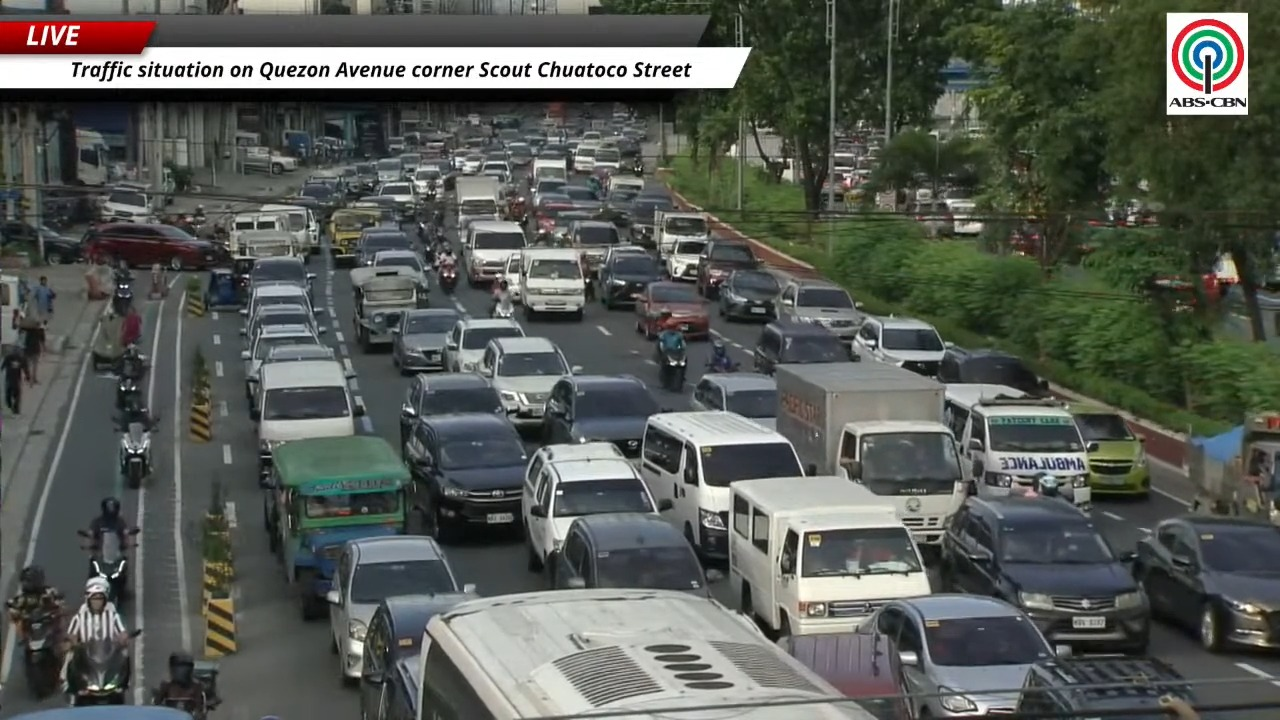bus: (418, 589, 872, 719)
car: (939, 496, 1150, 653), (857, 593, 1066, 717), (326, 535, 473, 680), (1133, 515, 1279, 651), (522, 455, 671, 583), (405, 413, 526, 541), (359, 593, 474, 719), (551, 513, 709, 596), (779, 632, 913, 719), (1014, 656, 1199, 719), (541, 375, 660, 458), (475, 337, 580, 427), (399, 373, 504, 455), (1067, 402, 1150, 496), (83, 222, 227, 271), (245, 344, 335, 411), (240, 324, 320, 396), (753, 320, 859, 374), (938, 345, 1048, 396), (853, 316, 945, 376), (775, 278, 862, 339), (690, 372, 777, 429), (392, 308, 460, 374), (445, 317, 524, 372), (635, 282, 709, 339), (695, 237, 761, 298), (525, 442, 624, 482), (597, 248, 661, 309), (0, 220, 82, 263), (717, 269, 780, 321), (241, 303, 323, 342), (239, 283, 322, 321), (249, 257, 315, 303), (629, 186, 674, 248), (371, 249, 429, 295), (568, 220, 621, 269), (99, 183, 156, 222), (356, 228, 411, 266), (663, 239, 707, 281), (263, 344, 335, 364), (377, 182, 417, 215), (298, 183, 343, 211), (601, 244, 648, 269), (559, 184, 602, 210), (533, 178, 570, 207), (412, 167, 442, 197), (506, 142, 533, 167), (459, 152, 484, 174)
motorcycle: (67, 638, 130, 706), (77, 530, 128, 606), (22, 610, 60, 699), (120, 421, 155, 488), (154, 691, 218, 719), (659, 347, 686, 392), (111, 275, 134, 316), (116, 375, 141, 409), (438, 265, 458, 294), (490, 297, 513, 318), (706, 361, 739, 373), (631, 161, 644, 176)
truck: (775, 362, 968, 545), (727, 476, 930, 635), (1187, 411, 1279, 524), (654, 211, 711, 257), (456, 176, 502, 232), (75, 128, 112, 186), (239, 146, 298, 175)
